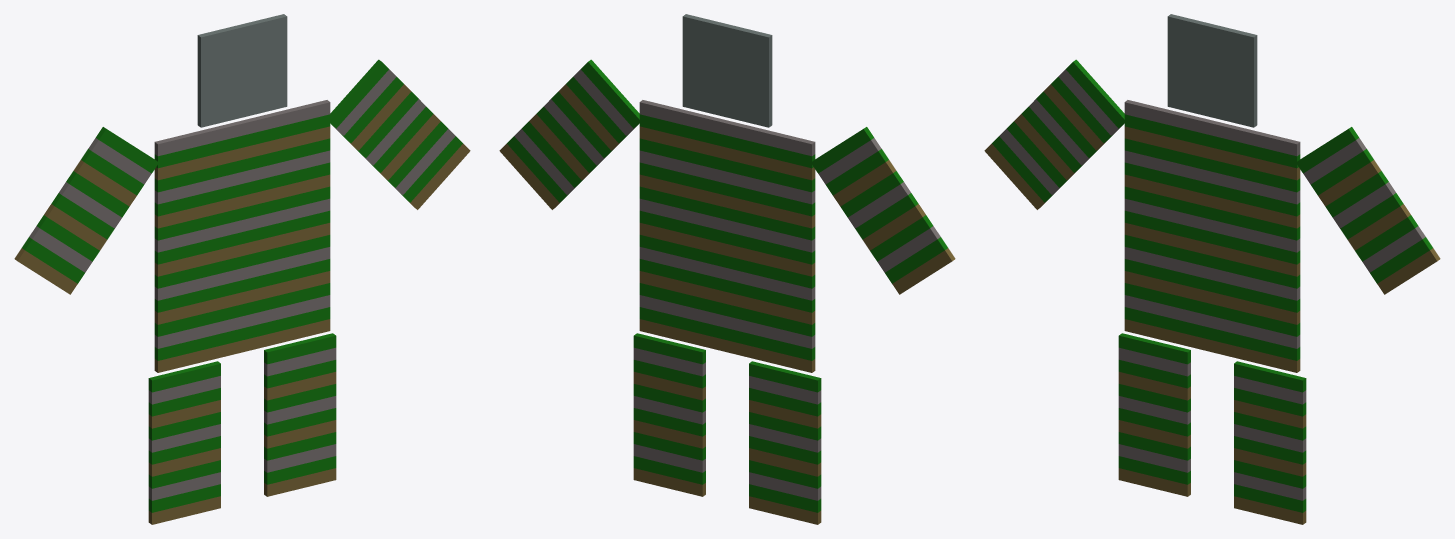
Rendered from Camouflage.fbx.
The picture shows the model from 3 angles, left to right: view 1: azimuth 30°, elevation 25°; view 2: azimuth 150°, elevation 25°; view 3: azimuth 330°, elevation 25°; orthographic projection.
Visible parts, largest first — view 1: Cube.006, Cube.023, Cube.010, Cube.001, Cube.012, Cube.007, Cube.008, Cube.009, Cube.015, Cube.020, Cube.024, Cube.011 (+56 smaller); view 2: Cube.006, Cube.023, Cube.010, Cube.001, Cube.012, Cube.007, Cube.008, Cube.009, Cube.015, Cube.020, Cube.024, Cube.011 (+56 smaller); view 3: Cube.006, Cube.023, Cube.010, Cube.001, Cube.012, Cube.007, Cube.008, Cube.009, Cube.015, Cube.020, Cube.024, Cube.011 (+56 smaller).
Part boxes in pixels (x1=…): Cube.006: x1=197, y1=14, x2=287, y2=127; Cube.023: x1=154, y1=100, x2=330, y2=156; Cube.010: x1=154, y1=162, x2=330, y2=216; Cube.001: x1=154, y1=210, x2=330, y2=264; Cube.012: x1=154, y1=138, x2=330, y2=192; Cube.007: x1=154, y1=198, x2=330, y2=252; Cube.008: x1=154, y1=186, x2=330, y2=240; Cube.009: x1=154, y1=174, x2=330, y2=228; Cube.015: x1=154, y1=247, x2=330, y2=300; Cube.020: x1=154, y1=283, x2=330, y2=336; Cube.024: x1=154, y1=319, x2=330, y2=372; Cube.011: x1=154, y1=150, x2=330, y2=204; Cube.006: x1=682, y1=14, x2=772, y2=127; Cube.023: x1=639, y1=100, x2=815, y2=156; Cube.010: x1=639, y1=162, x2=815, y2=216; Cube.001: x1=639, y1=210, x2=815, y2=264; Cube.012: x1=639, y1=138, x2=815, y2=192; Cube.007: x1=639, y1=198, x2=815, y2=252; Cube.008: x1=639, y1=186, x2=815, y2=240; Cube.009: x1=639, y1=174, x2=815, y2=228; Cube.015: x1=639, y1=247, x2=815, y2=300; Cube.020: x1=639, y1=283, x2=815, y2=336; Cube.024: x1=639, y1=319, x2=815, y2=372; Cube.011: x1=639, y1=150, x2=815, y2=204; Cube.006: x1=1167, y1=14, x2=1257, y2=127; Cube.023: x1=1124, y1=100, x2=1300, y2=156; Cube.010: x1=1124, y1=162, x2=1300, y2=216; Cube.001: x1=1124, y1=210, x2=1300, y2=264; Cube.012: x1=1124, y1=138, x2=1300, y2=192; Cube.007: x1=1124, y1=198, x2=1300, y2=252; Cube.008: x1=1124, y1=186, x2=1300, y2=240; Cube.009: x1=1124, y1=174, x2=1300, y2=228; Cube.015: x1=1124, y1=247, x2=1300, y2=300; Cube.020: x1=1124, y1=283, x2=1300, y2=336; Cube.024: x1=1124, y1=319, x2=1300, y2=372; Cube.011: x1=1124, y1=150, x2=1300, y2=204.
Size of the model in its own units: 158 by 158 by 2.
